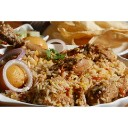briyani: (1, 20, 128, 99)
